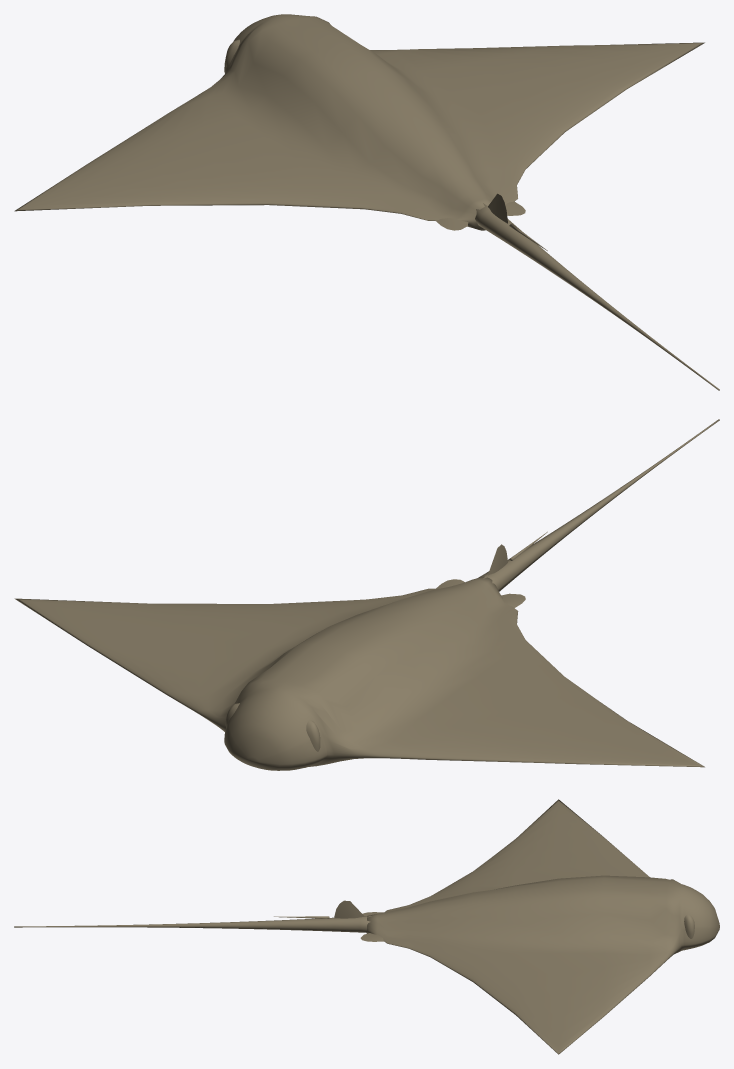
Rendered from bat_ray_game.glb.
The picture shows the model from 3 angles, top to bottom: view 1: azimuth 30°, elevation 25°; view 2: azimuth 150°, elevation 25°; view 3: azimuth 270°, elevation 25°; orthographic projection. The views are drawn at different scales.
Parts seen in each view (by area): view 1: bat_ray_game; view 2: bat_ray_game; view 3: bat_ray_game.
Part boxes in pixels (x1,y1,x2,y2): bat_ray_game: (14, 14, 719, 390); bat_ray_game: (14, 419, 719, 770); bat_ray_game: (14, 799, 719, 1054).
Size of the model in its own units: 1.2 by 0.1424 by 1.4.
